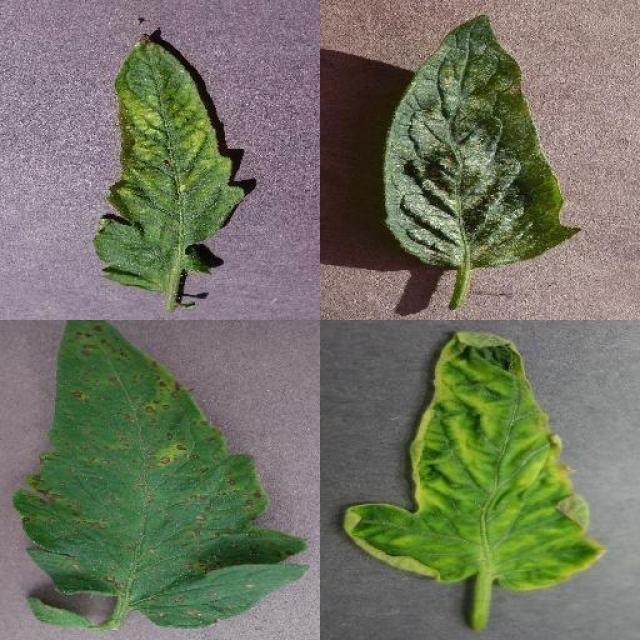Septoria: (15, 320, 309, 630)
